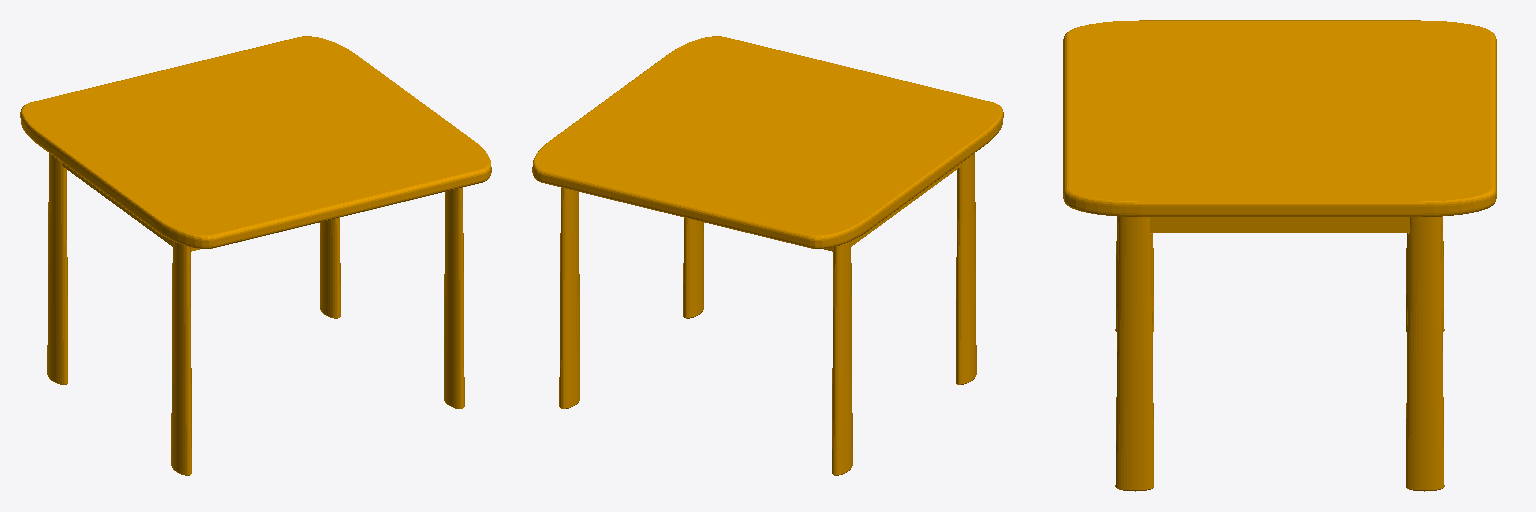
robot.urdf — table_1.1:
<?xml version="1.0"?>
		<robot name="table_1.1">
		<link name="link1">
			<inertial>
			<mass value="0.5"/>
			<inertia ixx="1" ixy="0" ixz="0" iyy="1" iyz="0" izz="1"/>
			</inertial>
			<visual>
			<geometry>
				<mesh filename="table_1.1.obj"/>
			</geometry>
			</visual>
			<collision>
			<geometry>
				<mesh filename="table_1.1.obj"/>
			</geometry>
			</collision>
		</link>
		</robot>

--- Facts derived from the render (not from the file) ---
Views: 3 orthographic renders of the robot side by side, from view 1: azimuth 30°, elevation 25°; view 2: azimuth 150°, elevation 25°; view 3: azimuth 270°, elevation 25°.
Robot: table_1.1 — 1 links, 0 joints (none); root link link1; default pose: all joints at 0.
Links seen in each view (by area): view 1: link1; view 2: link1; view 3: link1.
Boxes of the visible links, <box> form: link1: <box>20,36,491,475</box>; link1: <box>532,36,1003,475</box>; link1: <box>1063,20,1496,491</box>.
Bounding box of the posed robot: 1 × 1 × 0.769 m (x, y, z).
Meshes: 1 distinct files referenced, 1 mesh visuals loaded (1 OBJ).
